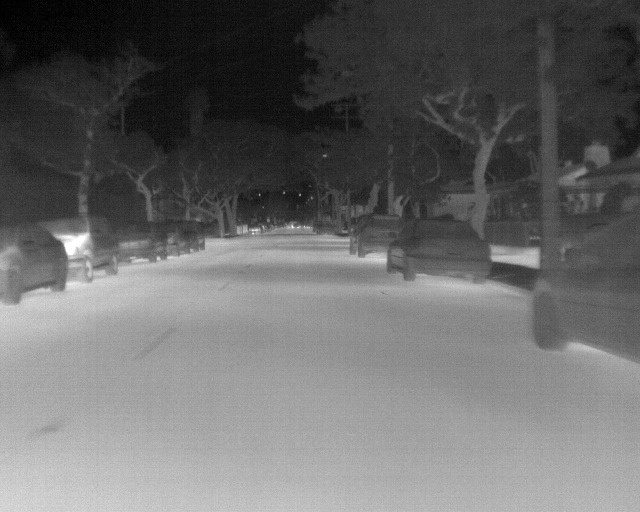vehicle: (536, 209, 640, 361), (387, 211, 493, 287), (1, 220, 67, 302), (55, 210, 121, 285), (119, 214, 169, 266), (163, 215, 204, 257)
